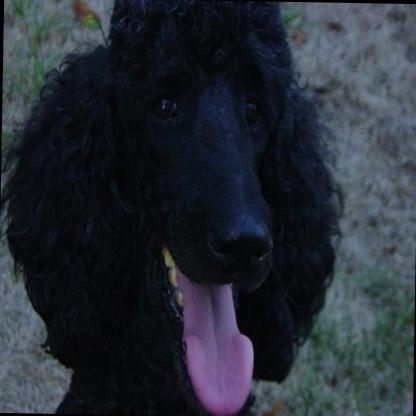standard_poodle: (0, 0, 342, 416)
